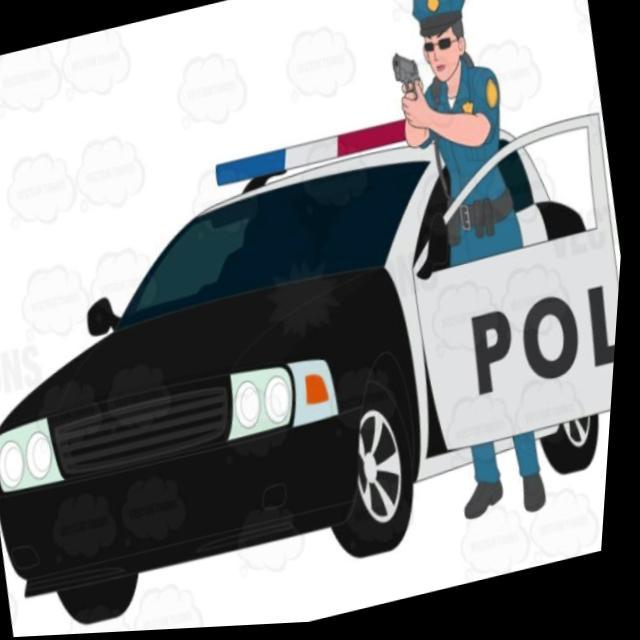weapon: (385, 46, 432, 110)
